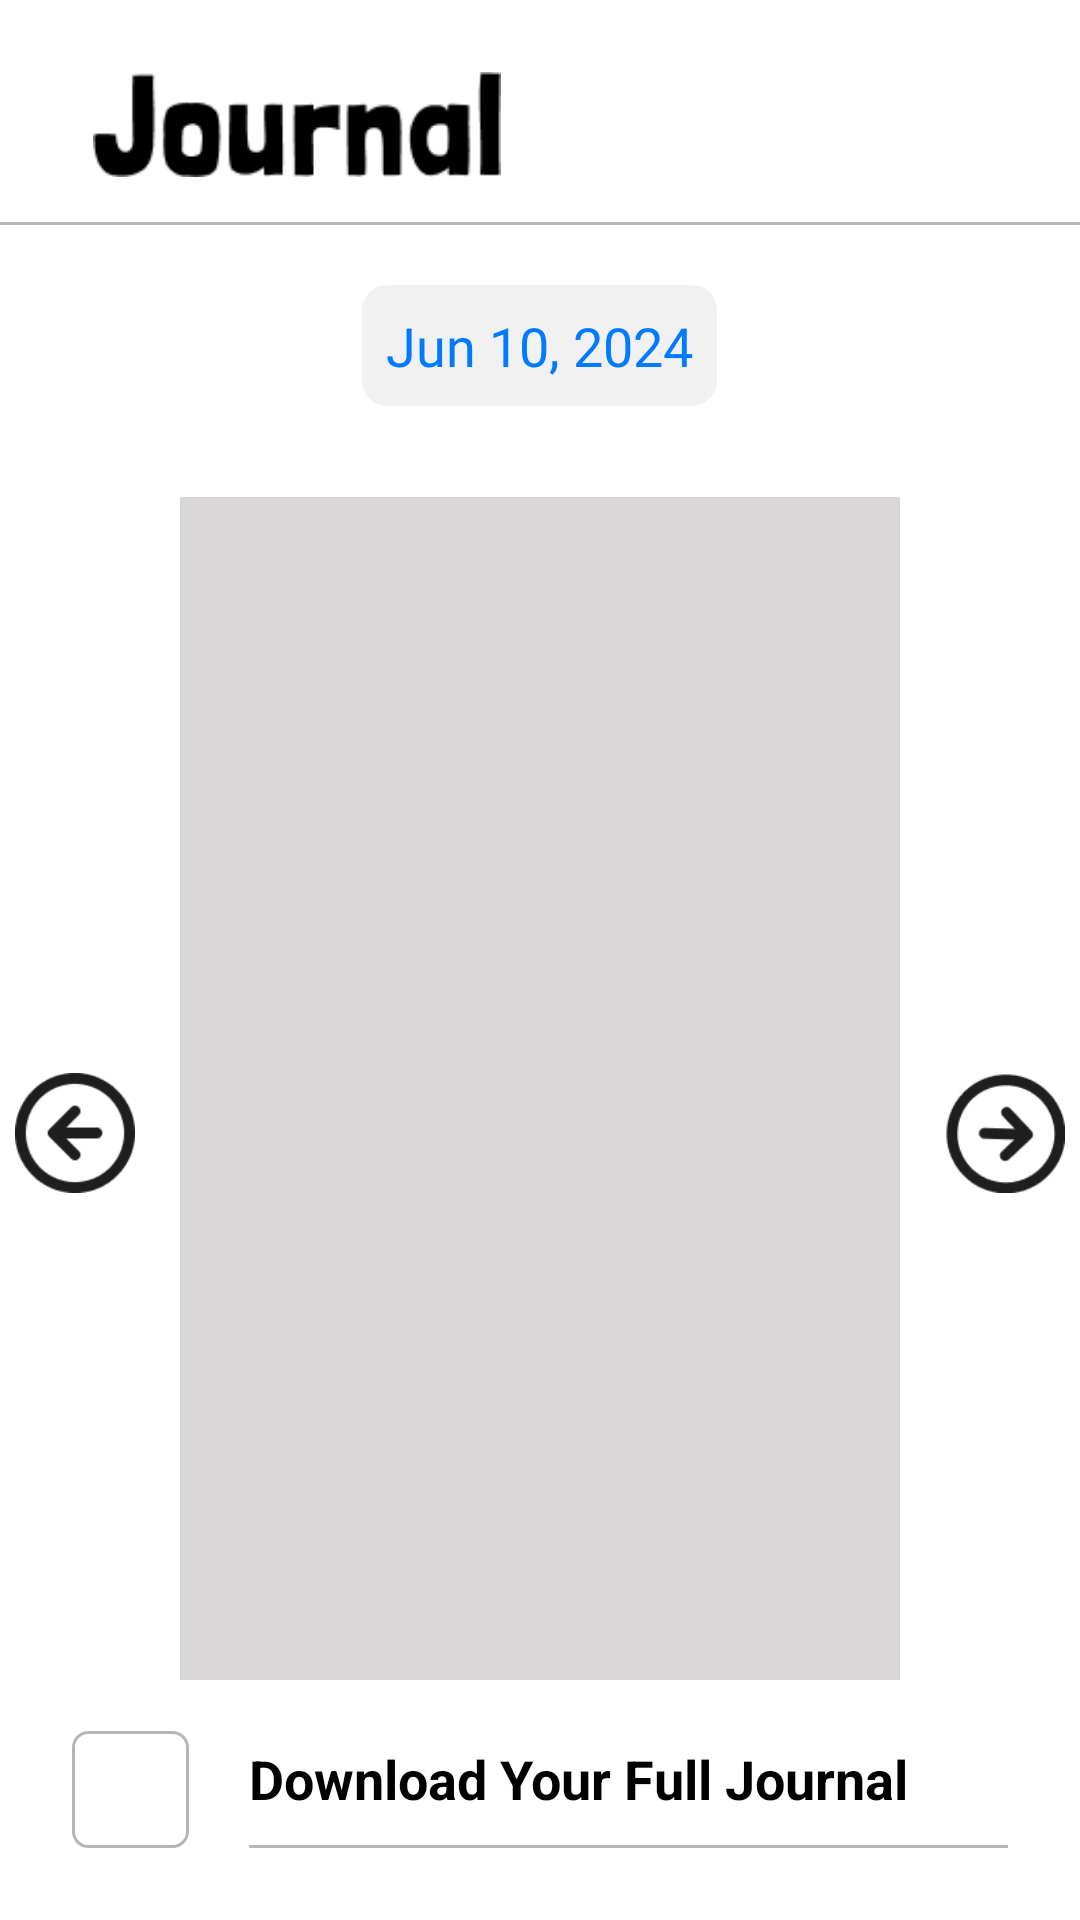

Where icons sit on this 1080px x 1920px app screen, as {"left": x1, "top": y1, "right": x2, "bottom": y2}:
circle arrow left: {"left": 15, "top": 1073, "right": 135, "bottom": 1193}
circle arrow right: {"left": 946, "top": 1074, "right": 1065, "bottom": 1193}
